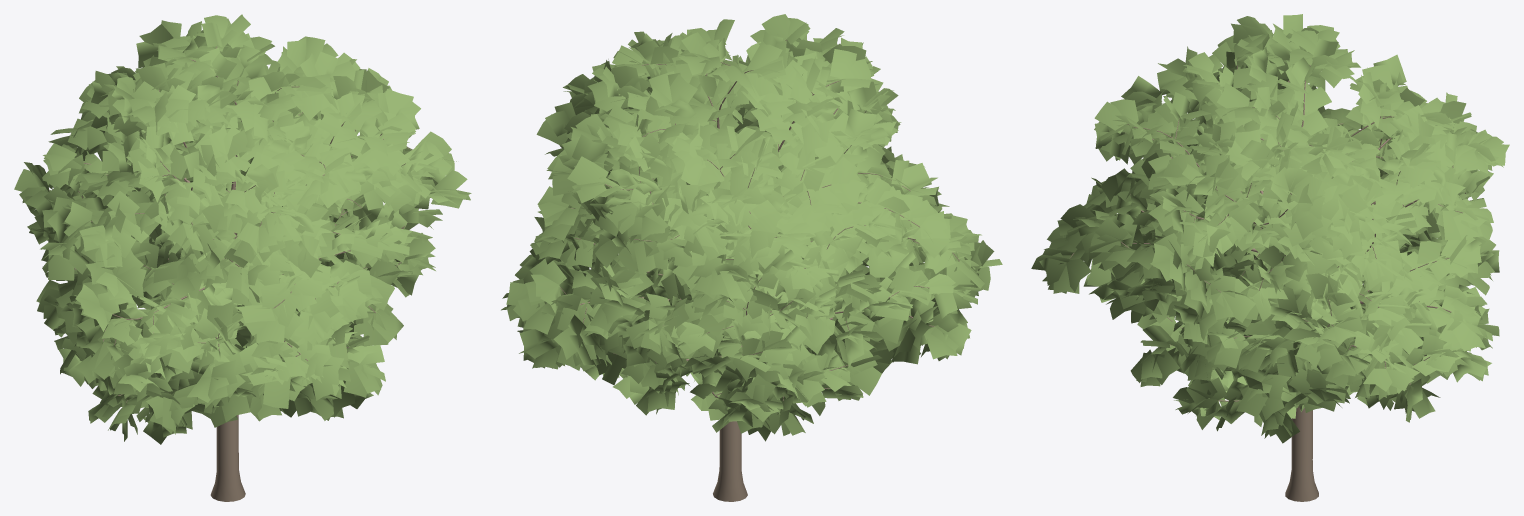
File: Broadleaf_2_lod0.glb
3 renders of one model, left to right at view 1: azimuth 30°, elevation 25°; view 2: azimuth 150°, elevation 25°; view 3: azimuth 270°, elevation 25°, orthographic. The views are drawn at different scales.
Visible parts, largest first — view 1: Broadleaf_2_lod0; view 2: Broadleaf_2_lod0; view 3: Broadleaf_2_lod0.
Part boxes in pixels (x1=…): Broadleaf_2_lod0: x1=14, y1=14, x2=471, y2=501; Broadleaf_2_lod0: x1=501, y1=14, x2=1002, y2=501; Broadleaf_2_lod0: x1=1031, y1=14, x2=1509, y2=501.
Size of the model in its own units: 10.8 by 12.51 by 11.93.
